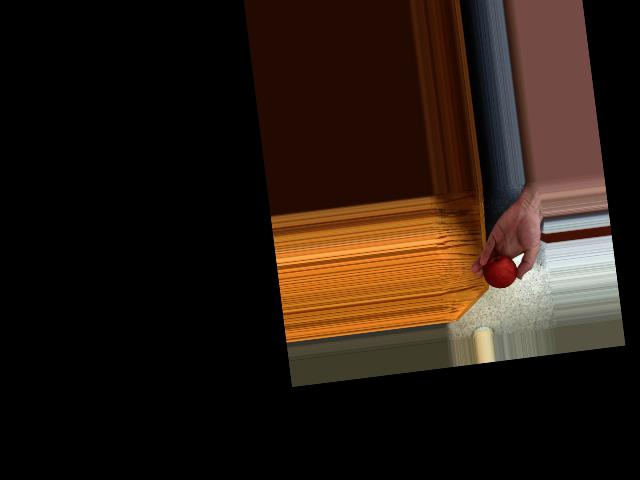apple: (481, 250, 524, 290)
